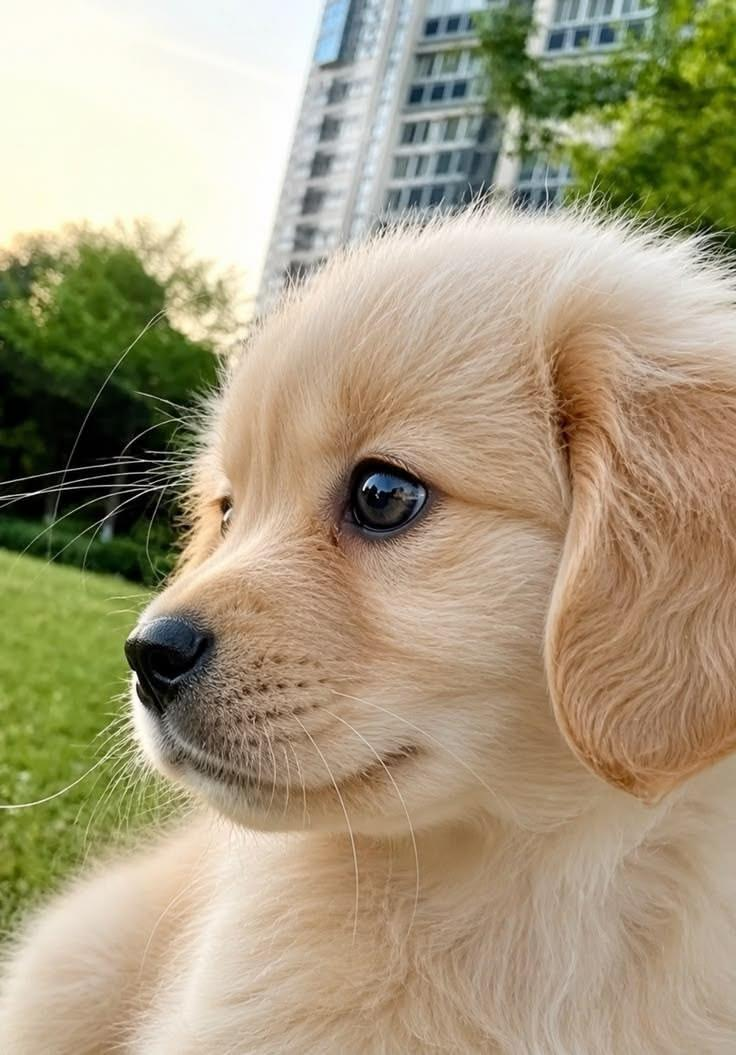puppy-dog: (0, 195, 736, 1055)
